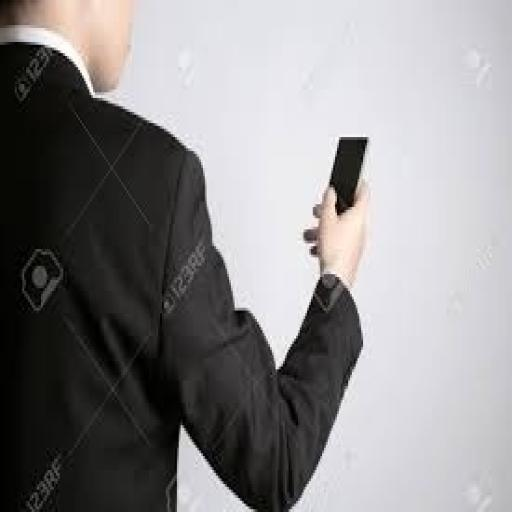texting: (0, 0, 374, 509)
